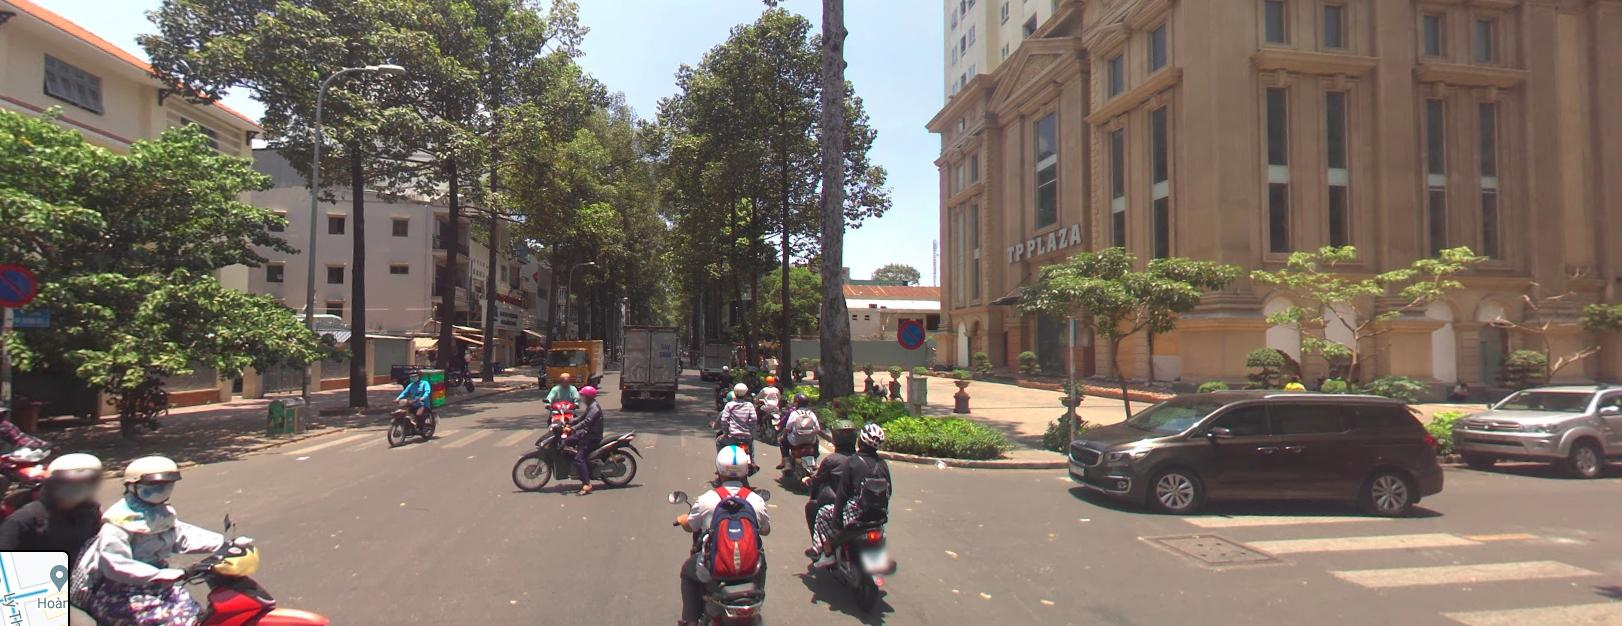Cam dung va do: (12, 262, 39, 301), (894, 319, 928, 349)
